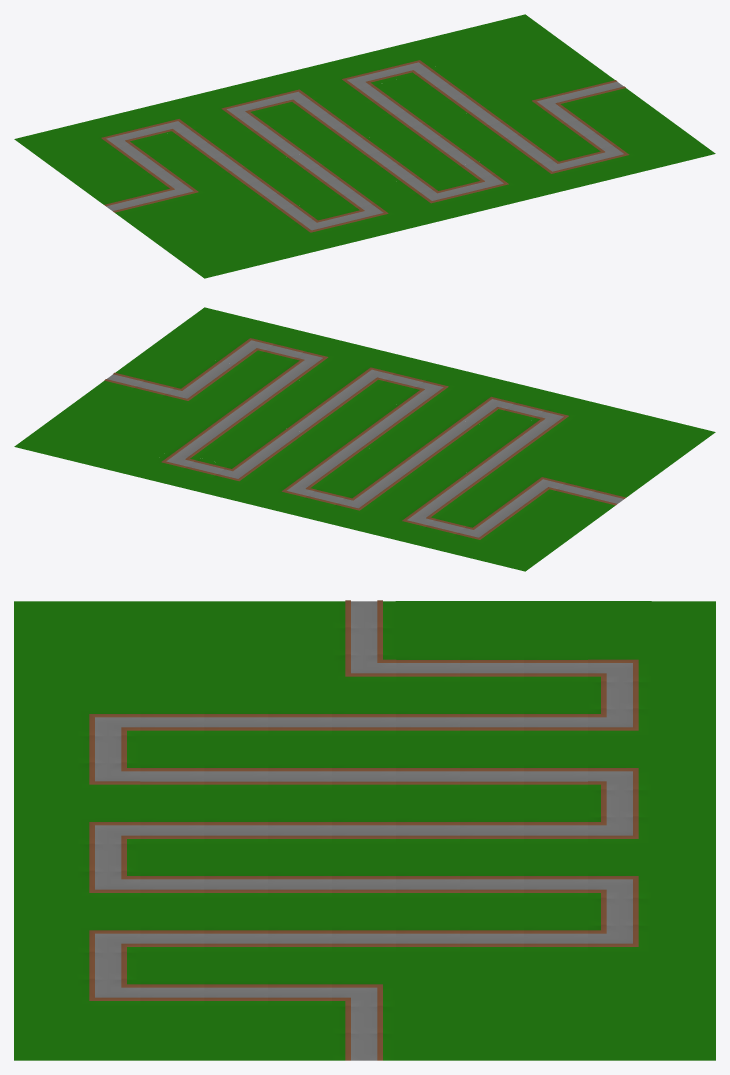
File: Trilha Grama J.fbx
3 renders of one model, top to bottom at view 1: azimuth 30°, elevation 25°; view 2: azimuth 150°, elevation 25°; view 3: azimuth 270°, elevation 25°, orthographic. The views are drawn at different scales.
Visible parts, largest first — view 1: Plane.073; view 2: Plane.073; view 3: Plane.073.
Part boxes in pixels (box(x1,y1,x2,y2)): Plane.073: box(14, 14, 715, 278); Plane.073: box(14, 307, 715, 571); Plane.073: box(14, 600, 715, 1060).
Bounding box in the file's own units: 15967 × 15.72 × 10307.
